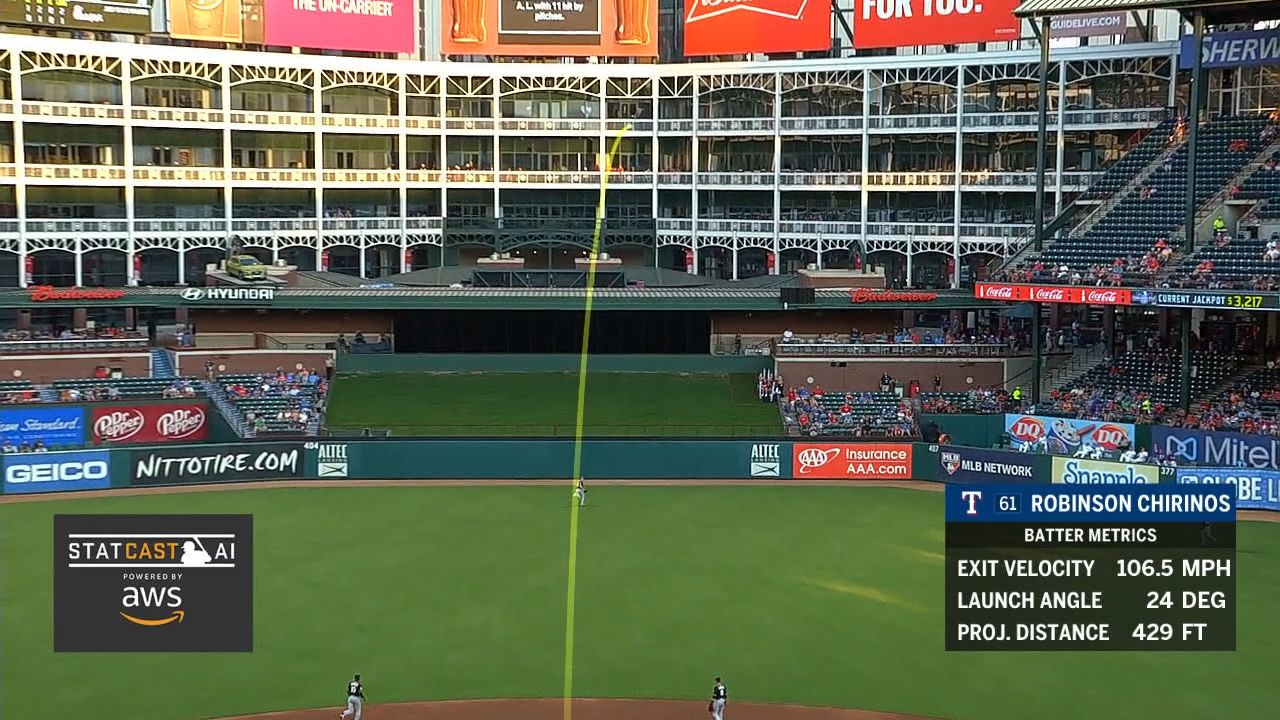Geico: (2, 449, 109, 487)
